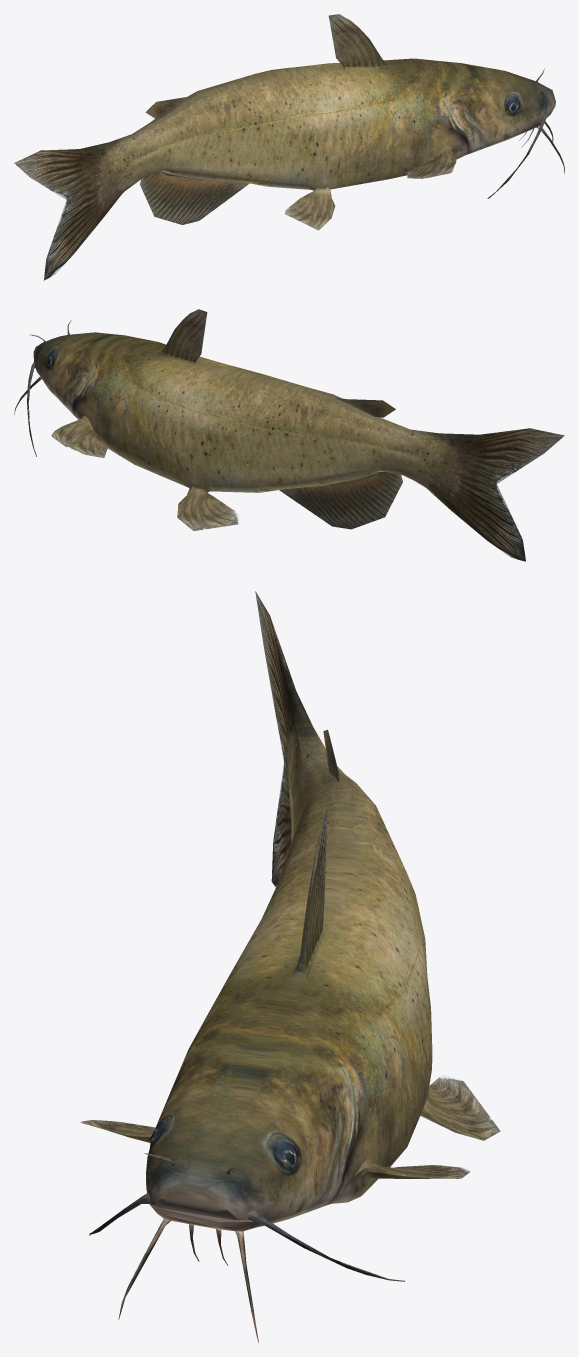
The model's file is bagre_animacion.glb.
3 renders of one model, top to bottom at view 1: azimuth 30°, elevation 25°; view 2: azimuth 150°, elevation 25°; view 3: azimuth 270°, elevation 25°, orthographic. The views are drawn at different scales.
Parts seen in each view (by area): view 1: BAGRE; view 2: BAGRE; view 3: BAGRE.
Part boxes in pixels (bbox=[...]): BAGRE: bbox=[14, 14, 564, 280]; BAGRE: bbox=[14, 309, 564, 561]; BAGRE: bbox=[78, 591, 500, 1342].
Bounding box in the file's own units: 0.39 × 0.1258 × 0.1322.
Materials: 1 (1 with a texture image).
